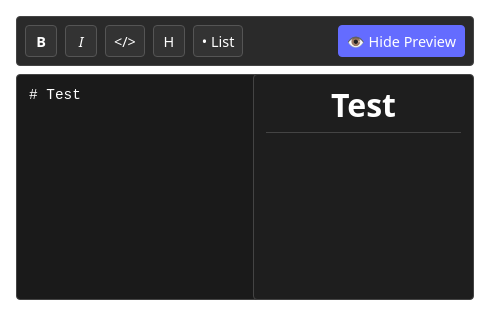
Test case: MarkdownEditor › toggles preview visibility when toggle button is clicked
The width and height of the screenshot is (491, 317).
Expected: the element with test id "test-markdown-preview" is shown, [253, 74, 474, 300]
Note: Click toggle button
Click the button with test id "test-markdown-preview-toggle".
click(401, 41)  # box [338, 25, 465, 57]
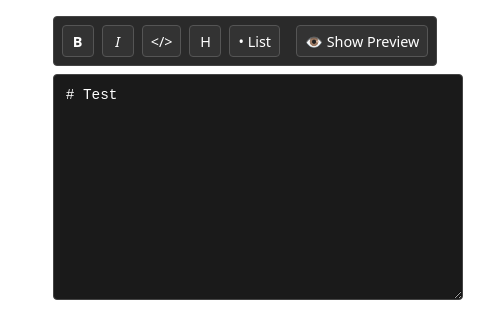
Expected: the element with test id "test-markdown-preview" is gone
Expected: the button with test id "test-markdown-preview-toggle" shows "Show Preview"
Note: Click toggle button again
Click the button with test id "test-markdown-preview-toggle".
click(362, 41)  # box [296, 25, 428, 57]
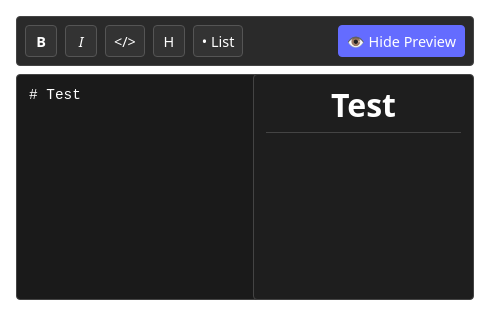
Expected: the element with test id "test-markdown-preview" is shown, [253, 74, 474, 300]
Expected: the button with test id "test-markdown-preview-toggle" shows "Hide Preview", [338, 25, 465, 57]
